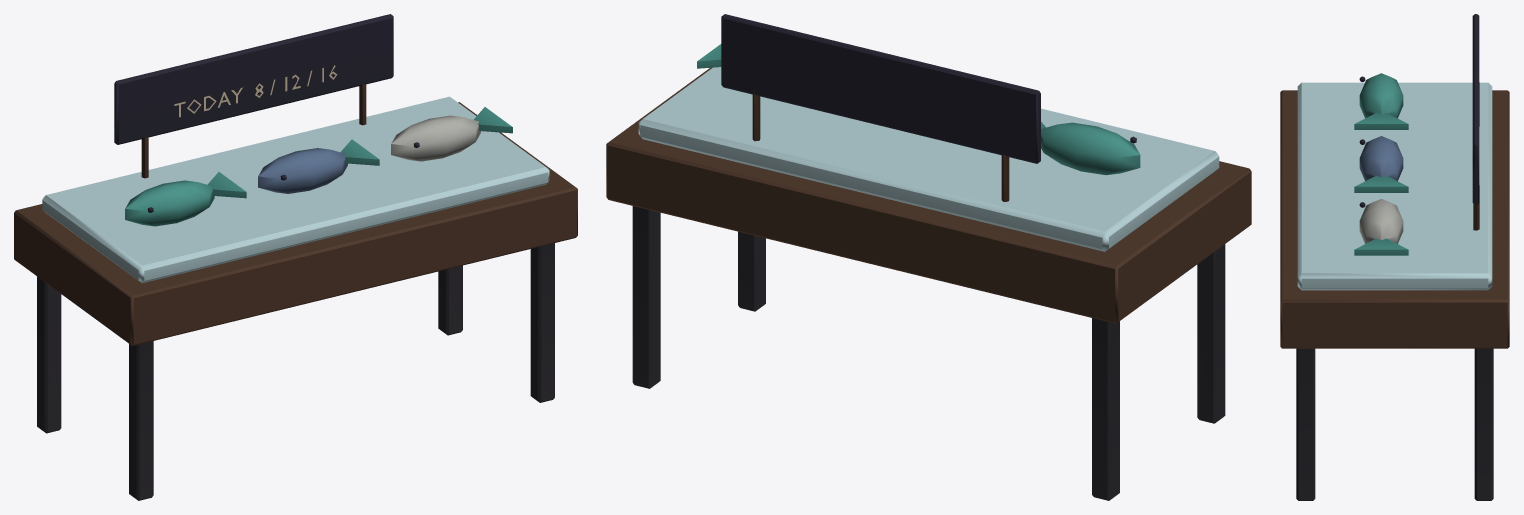
File: stall_fish.glb
The picture shows the model from 3 angles, left to right: view 1: azimuth 30°, elevation 25°; view 2: azimuth 150°, elevation 25°; view 3: azimuth 270°, elevation 25°; orthographic projection. The views are drawn at different scales.
Parts seen in each view (by area): view 1: stall_fish; view 2: stall_fish; view 3: stall_fish.
Part boxes in pixels (x1,y1,x2,y2): stall_fish: (14,14,577,500); stall_fish: (606,14,1251,500); stall_fish: (1280,14,1509,500).
Size of the model in its own units: 1.85 by 1.33 by 0.85.
